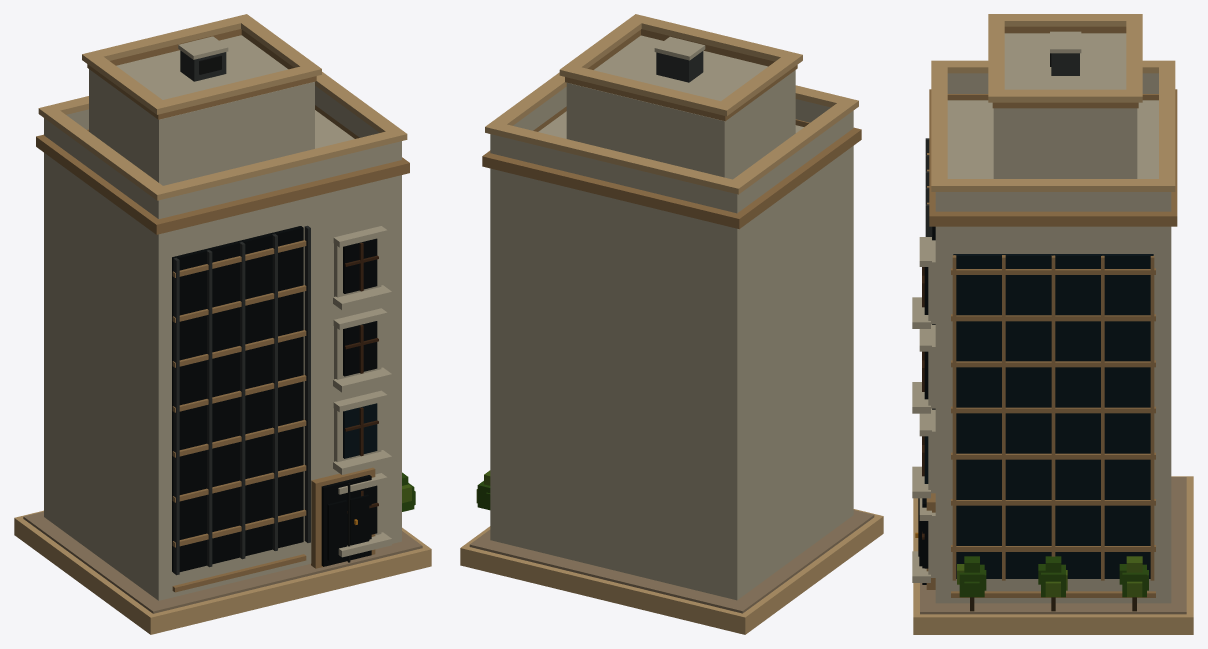
The model's file is SM_Mapa_002.fbx.
3 views of the same model, side by side, from view 1: azimuth 30°, elevation 25°; view 2: azimuth 150°, elevation 25°; view 3: azimuth 270°, elevation 25° (orthographic). The views are drawn at different scales.
Visible parts, largest first — view 1: SM_Mapa_002; view 2: SM_Mapa_002; view 3: SM_Mapa_002.
Boxes of the visible parts, <box> form: SM_Mapa_002: <box>14,14,431,634</box>; SM_Mapa_002: <box>460,14,883,634</box>; SM_Mapa_002: <box>912,14,1193,634</box>.
Bounding box in the file's own units: 8 × 6.55 × 13.29.
